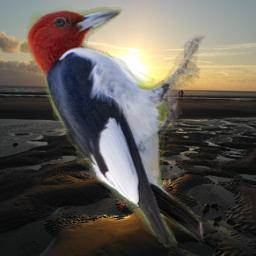Woodpecker: (21, 0, 212, 250)
